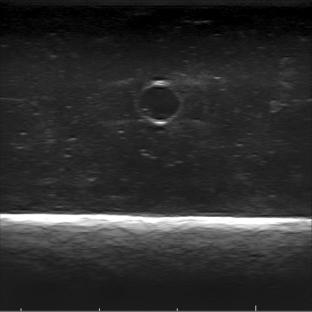vessel: (135, 79, 182, 125)
